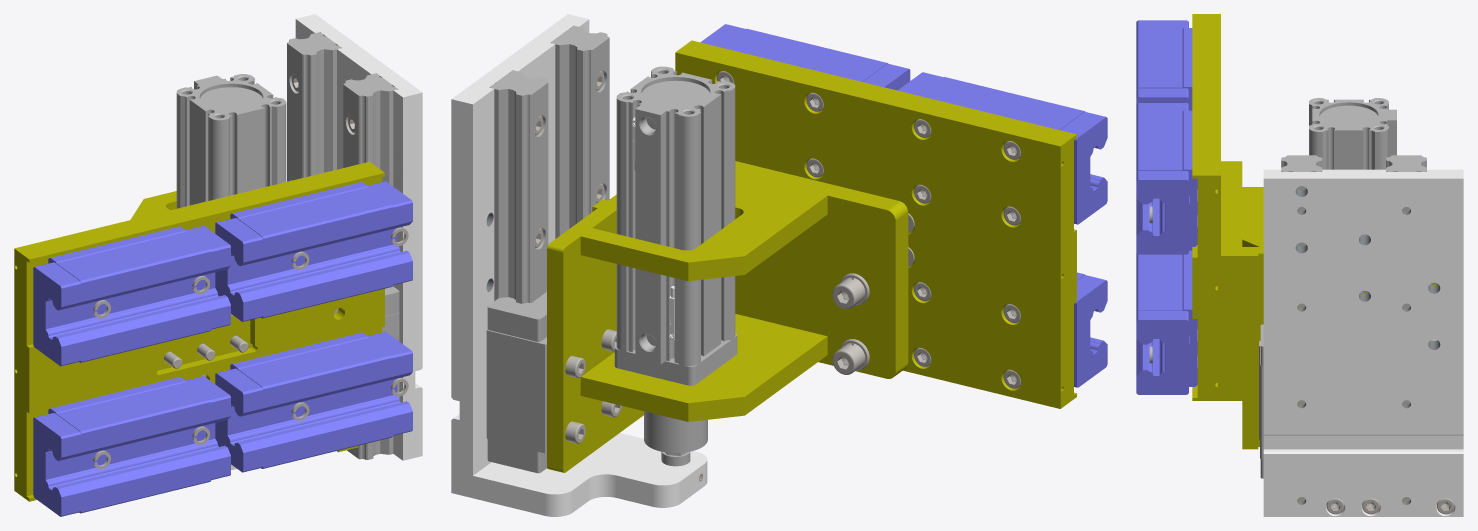
The model's file is GuidePart.obj.
The picture shows the model from 3 angles, left to right: view 1: azimuth 30°, elevation 25°; view 2: azimuth 150°, elevation 25°; view 3: azimuth 270°, elevation 25°; orthographic projection. The views are drawn at different scales.
Parts seen in each view (by area): view 1: µ¼¼в¿·/Íä¹Ü»úÍ·.STEP/________.STEP-1.STEP/SFA1-003G-073A-3000 __; view 2: µ¼¼в¿·/Íä¹Ü»úÍ·.STEP/________.STEP-1.STEP/SFA1-003G-073A-3000 __; view 3: µ¼¼в¿·/Íä¹Ü»úÍ·.STEP/________.STEP-1.STEP/SFA1-003G-073A-3000 __.
Part boxes in pixels (x1,y1,x2,y2): µ¼¼в¿·/Íä¹Ü»úÍ·.STEP/________.STEP-1.STEP/SFA1-003G-073A-3000 __: [14, 14, 422, 516]; µ¼¼в¿·/Íä¹Ü»úÍ·.STEP/________.STEP-1.STEP/SFA1-003G-073A-3000 __: [451, 14, 1107, 516]; µ¼¼в¿·/Íä¹Ü»úÍ·.STEP/________.STEP-1.STEP/SFA1-003G-073A-3000 __: [1136, 14, 1463, 516].
Bounding box in the file's own units: 261 × 213 × 184.
